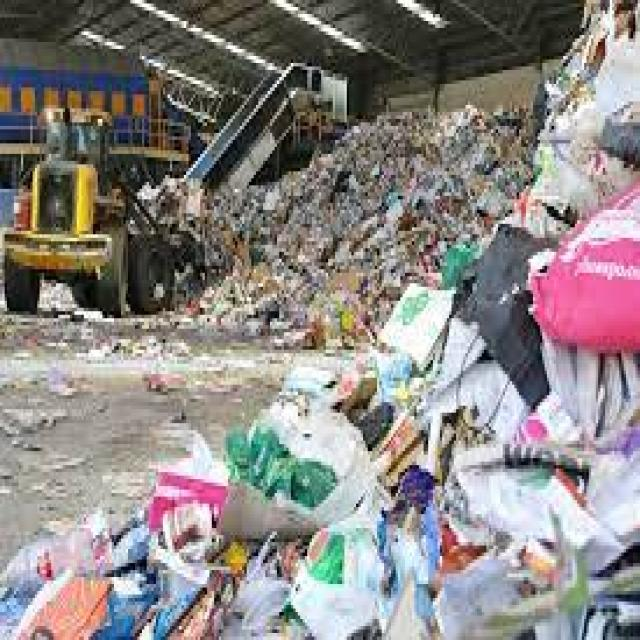plastic: (149, 434, 628, 616), (286, 168, 477, 273)
